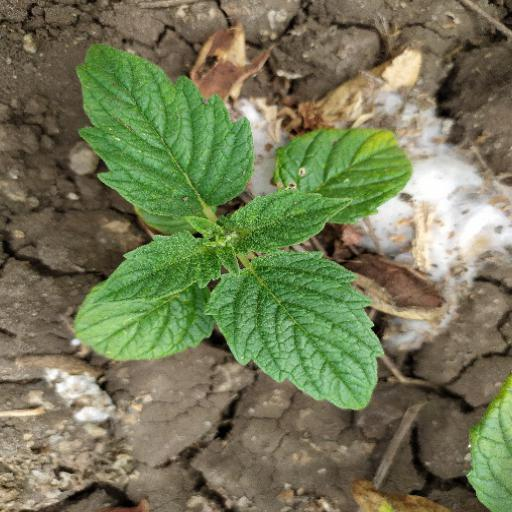crop: (72, 44, 416, 421)
